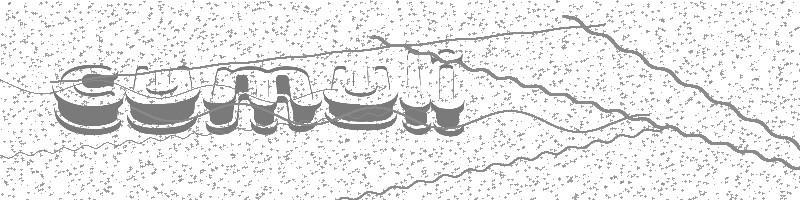c: (51, 63, 124, 137)
i: (432, 48, 466, 138)
l: (399, 47, 431, 136)
m: (203, 65, 323, 136)
u: (126, 63, 201, 136), (323, 63, 399, 132)
